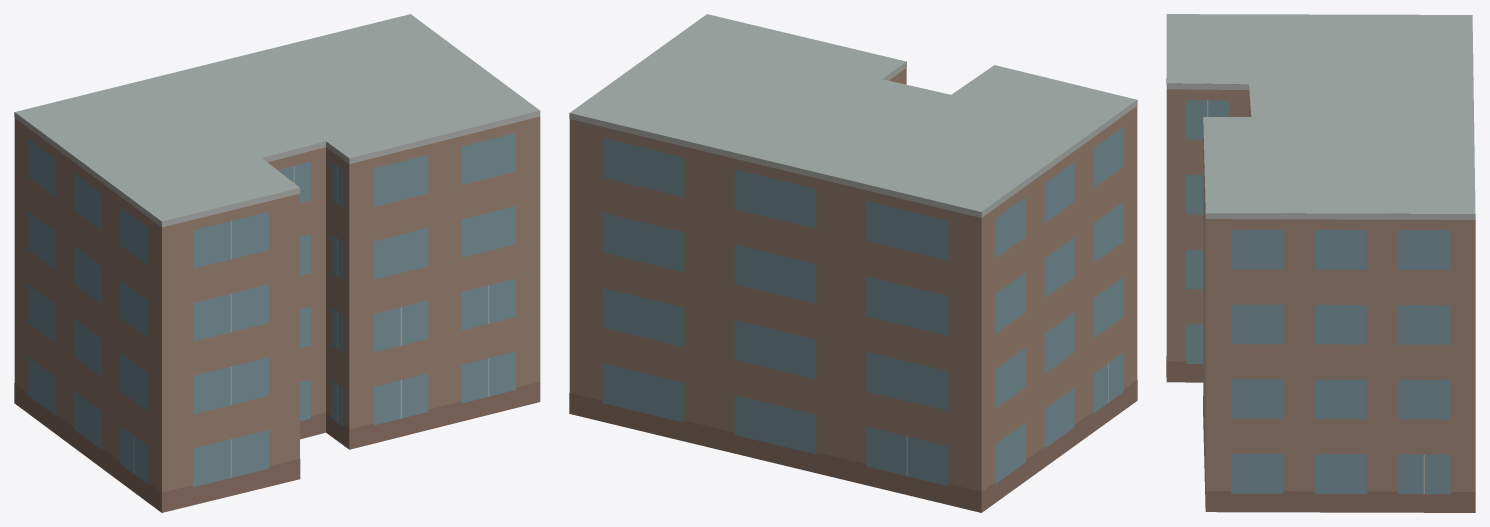
File: survey-upis-32823820.glb
3 renders of one model, left to right at view 1: azimuth 30°, elevation 25°; view 2: azimuth 150°, elevation 25°; view 3: azimuth 270°, elevation 25°, orthographic. The views are drawn at different scales.
Visible parts, largest first — view 1: survey-upis-32823820.tmp; view 2: survey-upis-32823820.tmp; view 3: survey-upis-32823820.tmp.
Boxes of the visible parts, bbox=[...] form: survey-upis-32823820.tmp: bbox=[14, 14, 540, 512]; survey-upis-32823820.tmp: bbox=[569, 14, 1137, 512]; survey-upis-32823820.tmp: bbox=[1166, 14, 1475, 512].
Size of the model in its own units: 17.66 by 12.3 by 11.54.
